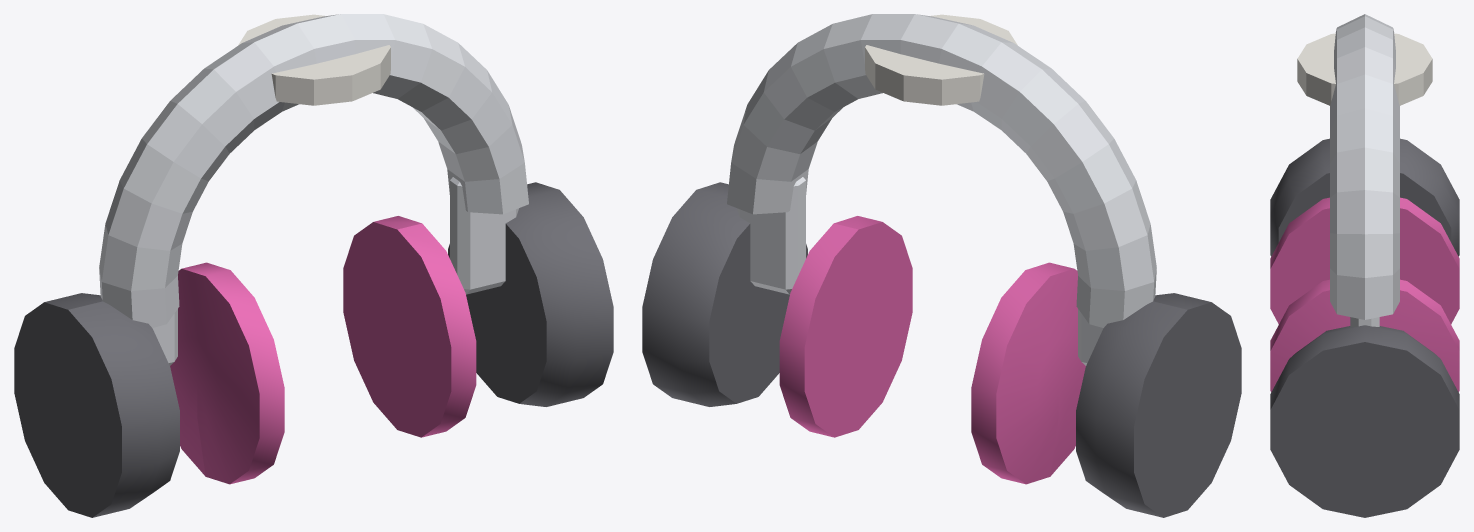
The model's file is nightclub-and-dj-booth-dj-headphones-68ba5562.glb.
3 views of the same model, side by side, from view 1: azimuth 30°, elevation 25°; view 2: azimuth 150°, elevation 25°; view 3: azimuth 270°, elevation 25° (orthographic). The views are drawn at different scales.
Parts seen in each view (by area): view 1: dj-headphones; view 2: dj-headphones; view 3: dj-headphones.
Boxes of the visible parts, x1=… form: dj-headphones: x1=14, y1=14, x2=613, y2=517; dj-headphones: x1=642, y1=14, x2=1241, y2=517; dj-headphones: x1=1270, y1=14, x2=1459, y2=517.
Size of the model in its own units: 0.236 by 0.1977 by 0.0897.
